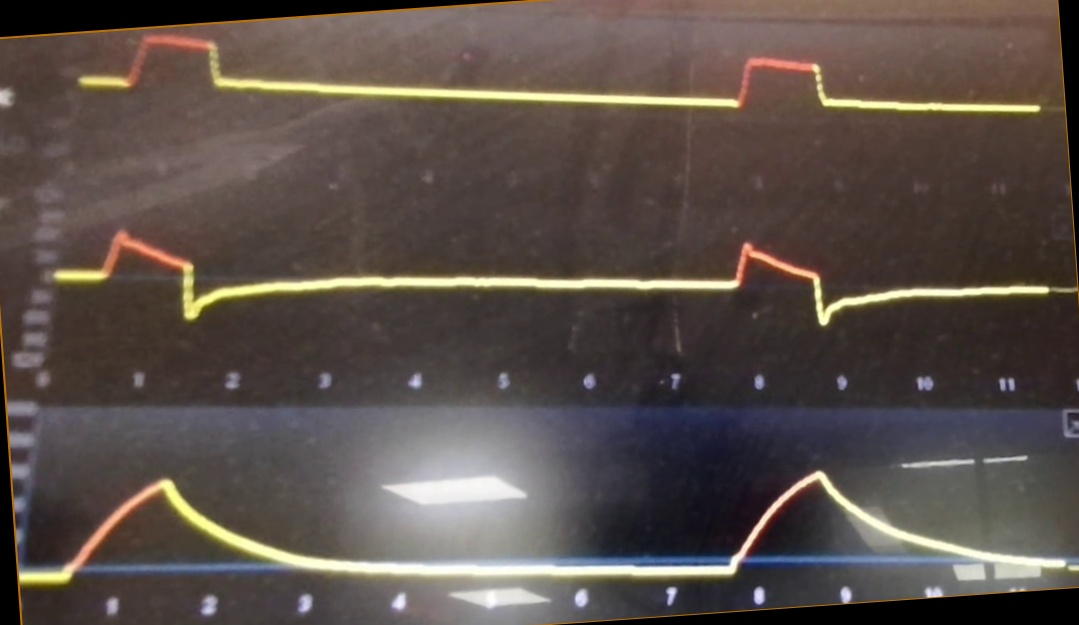Normal Flow: (55, 217, 1057, 345)
Normal Volume: (23, 457, 1079, 587)
